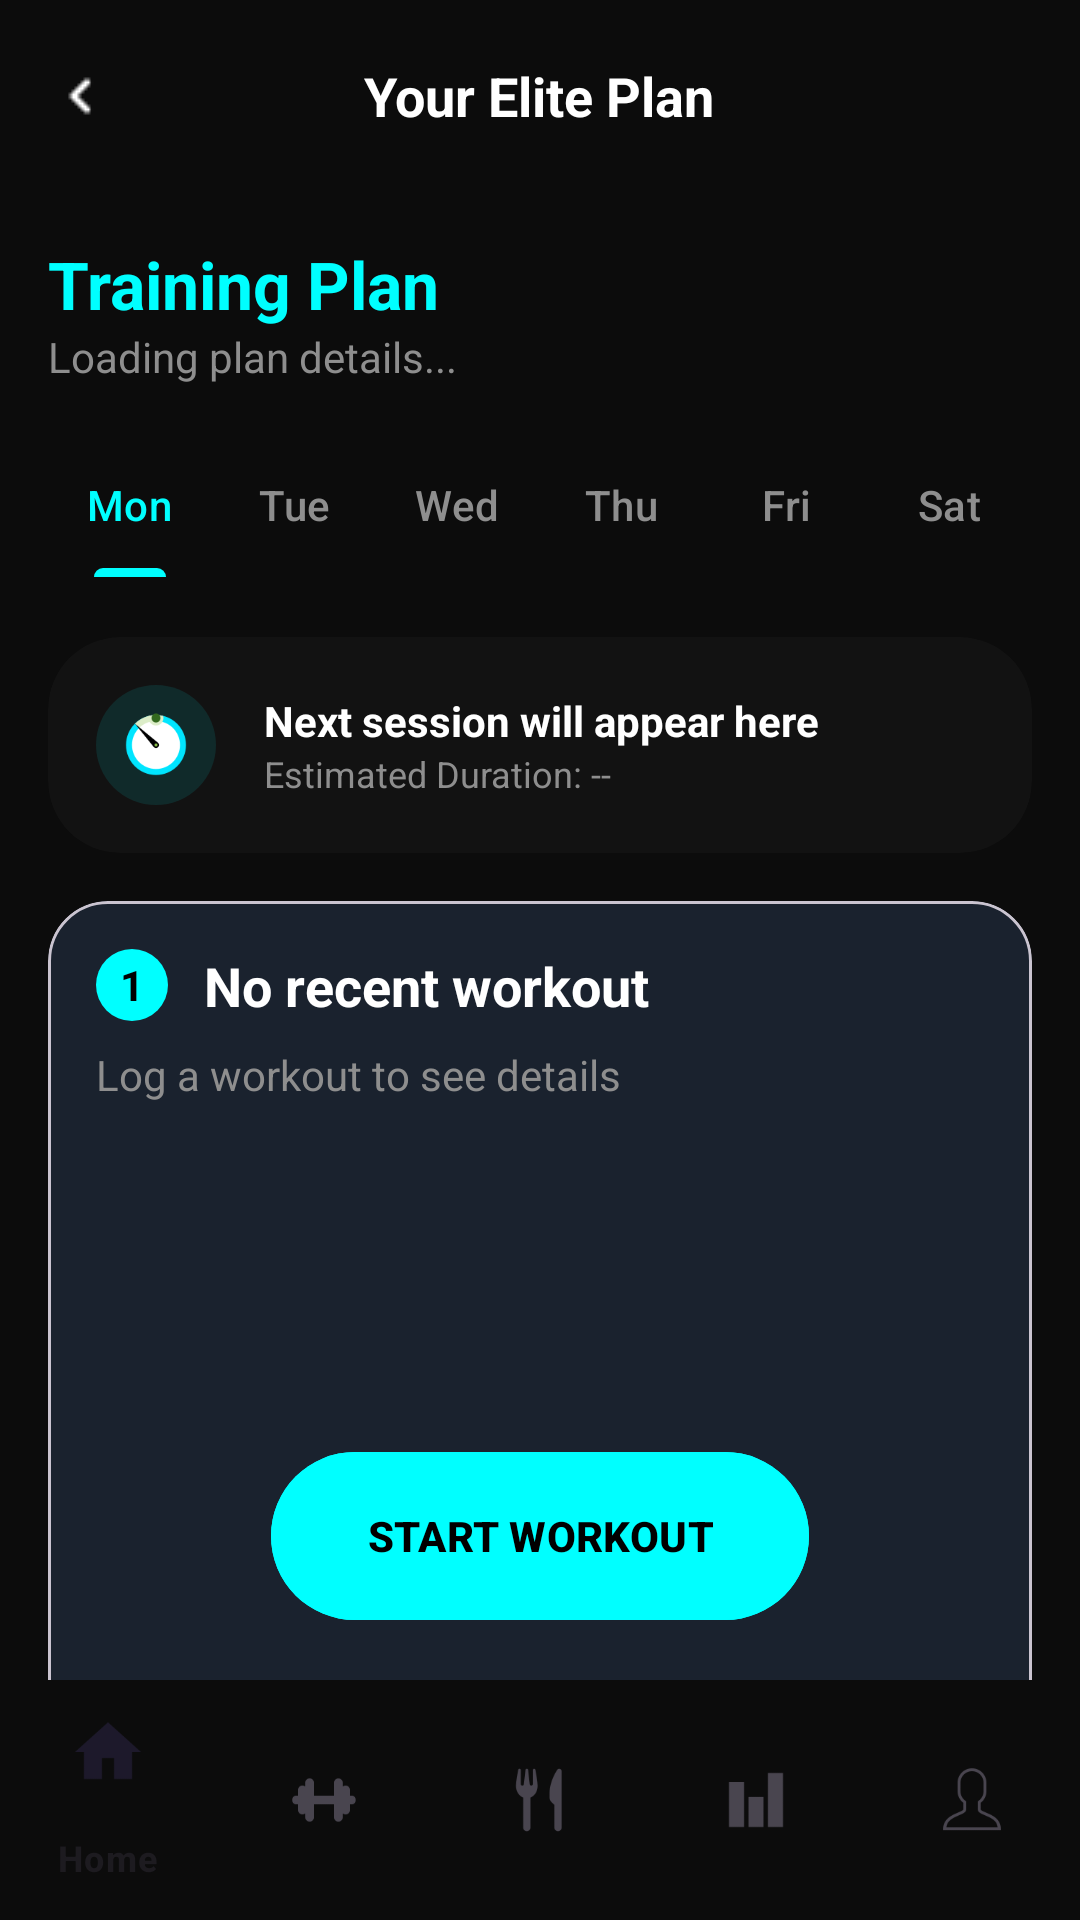

Point at icon controls on the screen. Image size 1080*1920, points as (x,y).
back: (79,96)
timer: (156,744)
